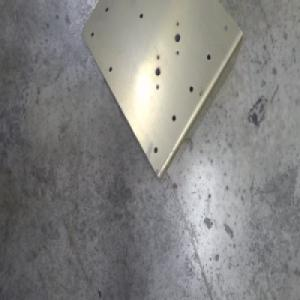MetalSheet: (79, 0, 243, 184)
